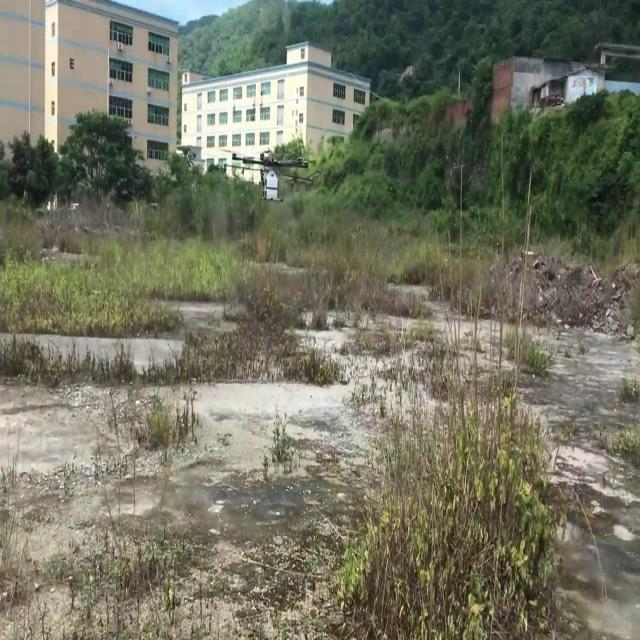UAV: (224, 149, 314, 203)
